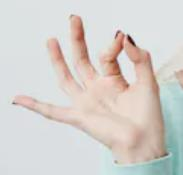left: (9, 13, 165, 159)
